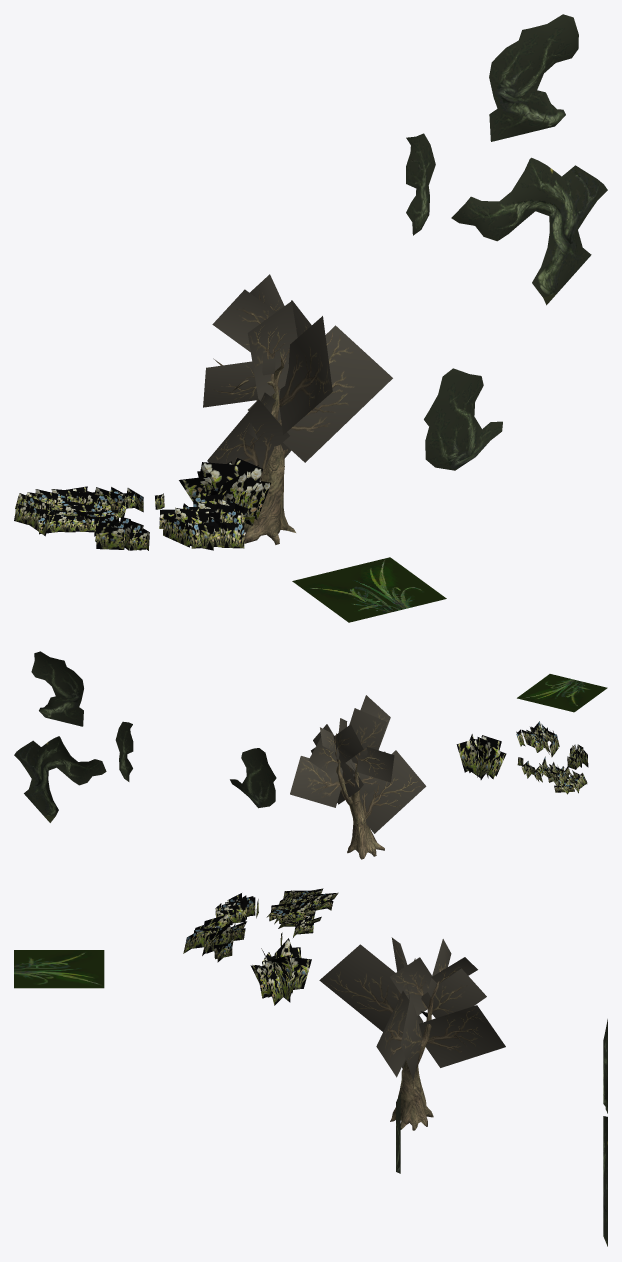
File: f_1113_meiguishu.FBX
3 views of the same model, one above another, from view 1: azimuth 30°, elevation 25°; view 2: azimuth 150°, elevation 25°; view 3: azimuth 270°, elevation 25° (orthographic). The views are drawn at different scales.
Visible parts, largest first — view 1: objObject286, f_1113_shuzhi3, f_1113_shuzhi2, Plane001, f_1113_shuzhi006, d_111301_tree16, d_111301_tree017, d_1101_tree15, Object001, f_1113_shuzhi1, Object010; view 2: objObject286, f_1113_shuzhi3, f_1113_shuzhi2, Plane001, f_1113_shuzhi006, Object001, d_1101_tree15, d_111301_tree16, d_111301_tree017, f_1113_shuzhi1, Object010; view 3: objObject286, Plane001, d_1101_tree15, d_111301_tree16, Object001, d_111301_tree017, Object010, f_1113_shuzhi3.
Part boxes in pixels (box(x1,y1,x2,y2)): objObject286: box(203, 274, 392, 480); f_1113_shuzhi3: box(451, 157, 607, 305); f_1113_shuzhi2: box(489, 14, 578, 141); Plane001: box(292, 557, 446, 622); f_1113_shuzhi006: box(424, 368, 502, 470); d_111301_tree16: box(14, 486, 143, 536); d_111301_tree017: box(159, 493, 248, 550); d_1101_tree15: box(179, 458, 271, 525); Object001: box(213, 306, 295, 544); f_1113_shuzhi1: box(406, 133, 435, 235); Object010: box(94, 514, 149, 550); objObject286: box(290, 695, 426, 833); f_1113_shuzhi3: box(14, 736, 106, 822); f_1113_shuzhi2: box(31, 651, 83, 726); Plane001: box(517, 674, 607, 712); f_1113_shuzhi006: box(230, 748, 276, 808); Object001: box(334, 733, 384, 859); d_1101_tree15: box(456, 734, 506, 779); d_111301_tree16: box(521, 756, 587, 794); d_111301_tree017: box(516, 721, 559, 757); f_1113_shuzhi1: box(115, 721, 133, 781); Object010: box(567, 744, 588, 769); objObject286: box(319, 937, 505, 1080); Plane001: box(14, 950, 104, 988); d_1101_tree15: box(250, 938, 311, 1005); d_111301_tree16: box(266, 888, 338, 937); Object001: box(390, 965, 441, 1130); d_111301_tree017: box(183, 914, 246, 962); Object010: box(215, 893, 258, 924); f_1113_shuzhi3: box(603, 1116, 607, 1246).
Bounding box in the file's own units: 3402 × 1374 × 2839.
